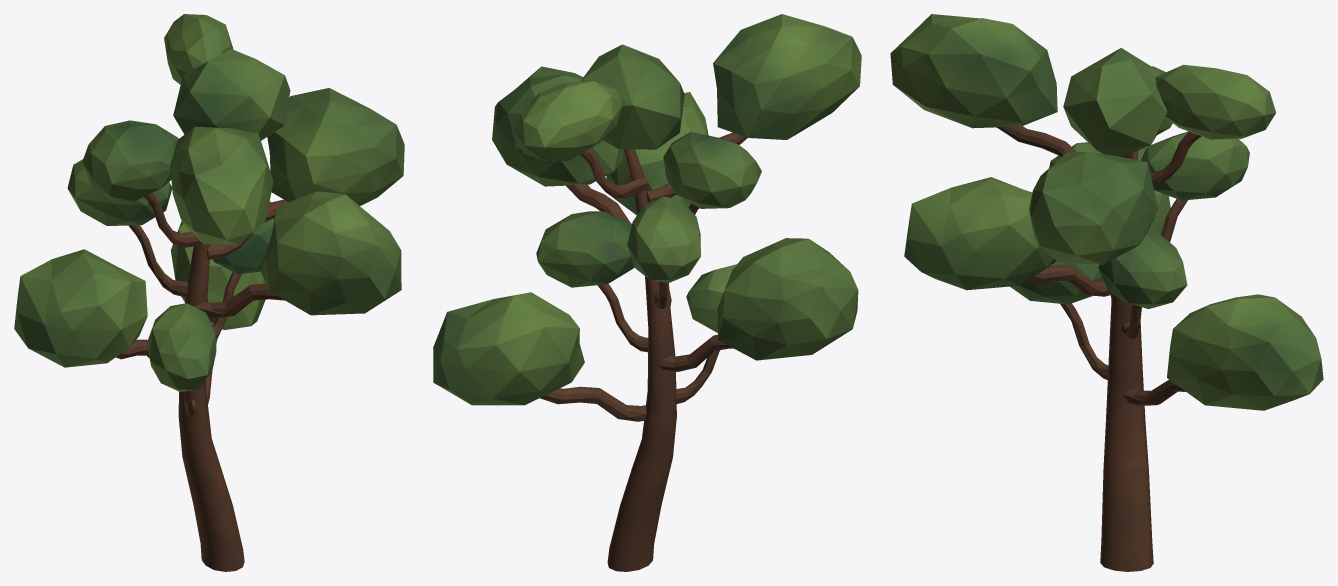
The model's file is tree265.fbx.
3 views of the same model, side by side, from view 1: azimuth 30°, elevation 25°; view 2: azimuth 150°, elevation 25°; view 3: azimuth 270°, elevation 25° (orthographic).
Visible parts, largest first — view 1: tree265; view 2: tree265; view 3: tree265.
Part boxes in pixels (box(x1,y1,x2,y2)): tree265: box(14, 14, 404, 571); tree265: box(433, 14, 861, 571); tree265: box(890, 14, 1323, 571).
Size of the model in its own units: 787 by 1063 by 820.
